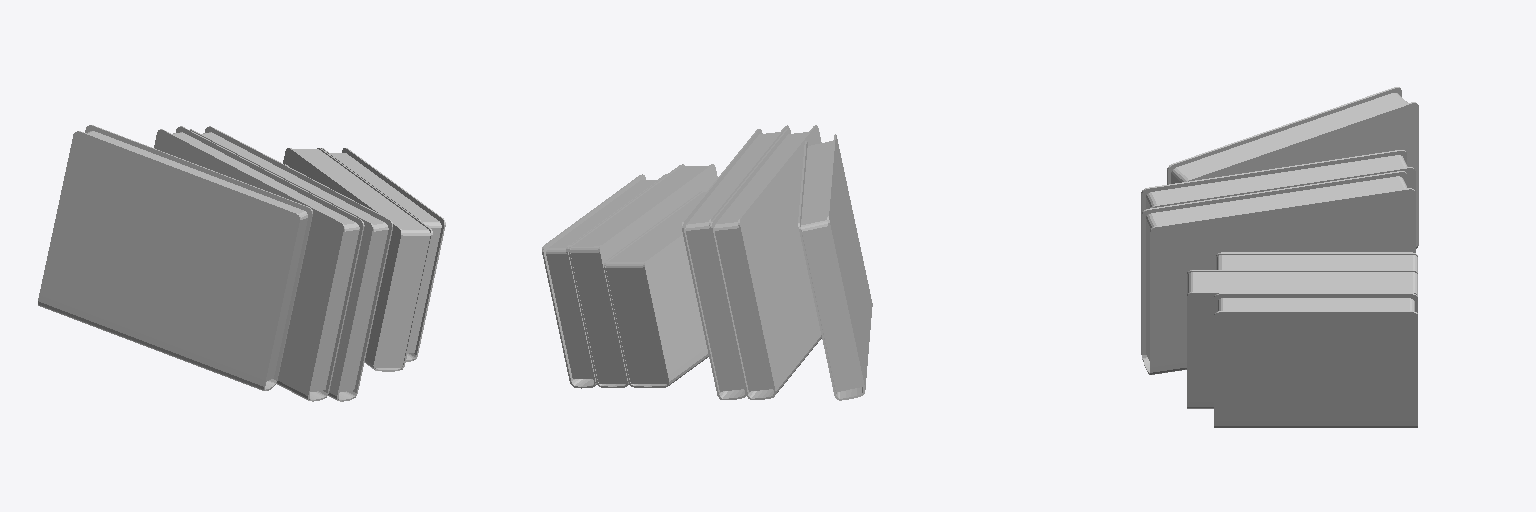
Rendered from books.obj.
The picture shows the model from 3 angles: view 1: azimuth 30°, elevation 25°; view 2: azimuth 150°, elevation 25°; view 3: azimuth 270°, elevation 25°; orthographic projection.
Bounding box in the file's own units: 36.63 × 24.67 × 27.84.